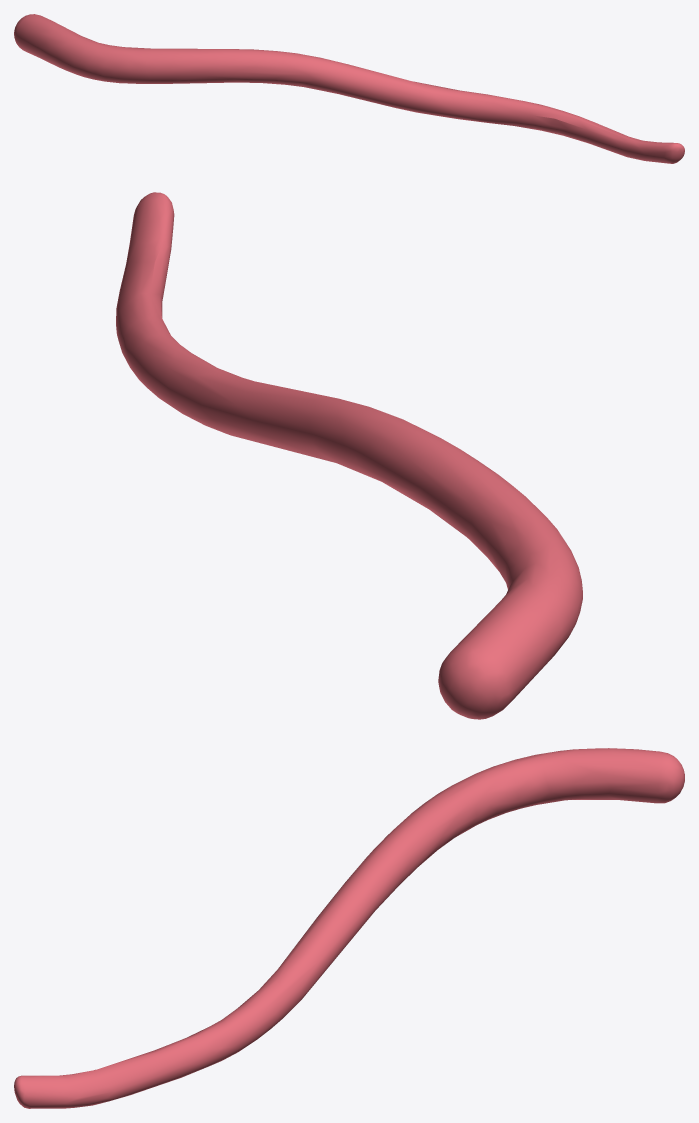
File: fma51289_fj5207.glb
3 renders of one model, top to bottom at view 1: azimuth 30°, elevation 25°; view 2: azimuth 150°, elevation 25°; view 3: azimuth 270°, elevation 25°, orthographic. The views are drawn at different scales.
Parts seen in each view (by area): view 1: FMA51289_FJ5207; view 2: FMA51289_FJ5207; view 3: FMA51289_FJ5207.
Boxes of the visible parts, x1,y1,x2,y2 form: FMA51289_FJ5207: (14, 14, 684, 163); FMA51289_FJ5207: (116, 192, 582, 719); FMA51289_FJ5207: (14, 748, 684, 1108).
Size of the model in its own units: 0.0471 by 0.00876 by 0.0483.
